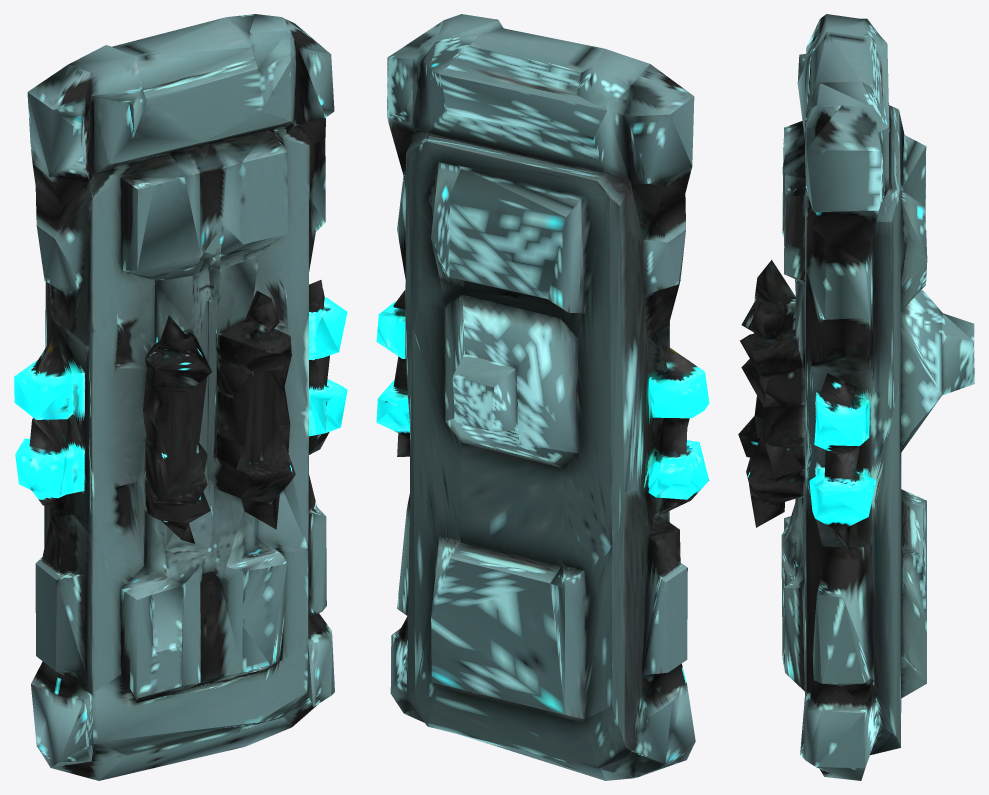
File: obj_restraint_v1_lod1.glb
3 renders of one model, left to right at view 1: azimuth 30°, elevation 25°; view 2: azimuth 150°, elevation 25°; view 3: azimuth 270°, elevation 25°, orthographic. The views are drawn at different scales.
Size of the model in its own units: 0.7356 by 1.6 by 0.5007.
Materials: 1 (1 with a texture image).
